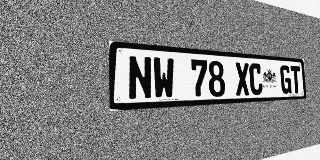7: (190, 59, 209, 98)
8: (208, 60, 225, 97)
C: (249, 63, 263, 95)
G: (280, 65, 292, 94)
N: (128, 55, 152, 100)
T: (290, 66, 301, 93)
W: (152, 57, 175, 99)
X: (235, 62, 250, 96)
